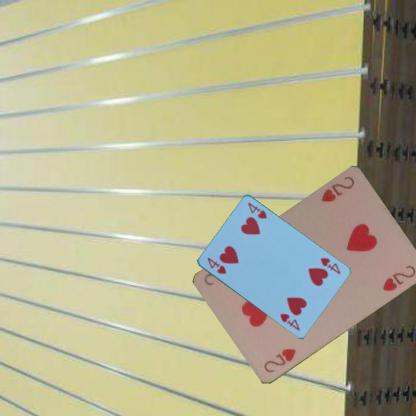2h: (318, 174, 356, 204), (261, 346, 297, 374)
4h: (318, 254, 341, 275), (205, 255, 227, 275)
